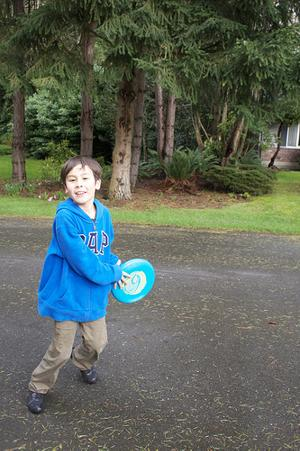person: (29, 157, 131, 414)
